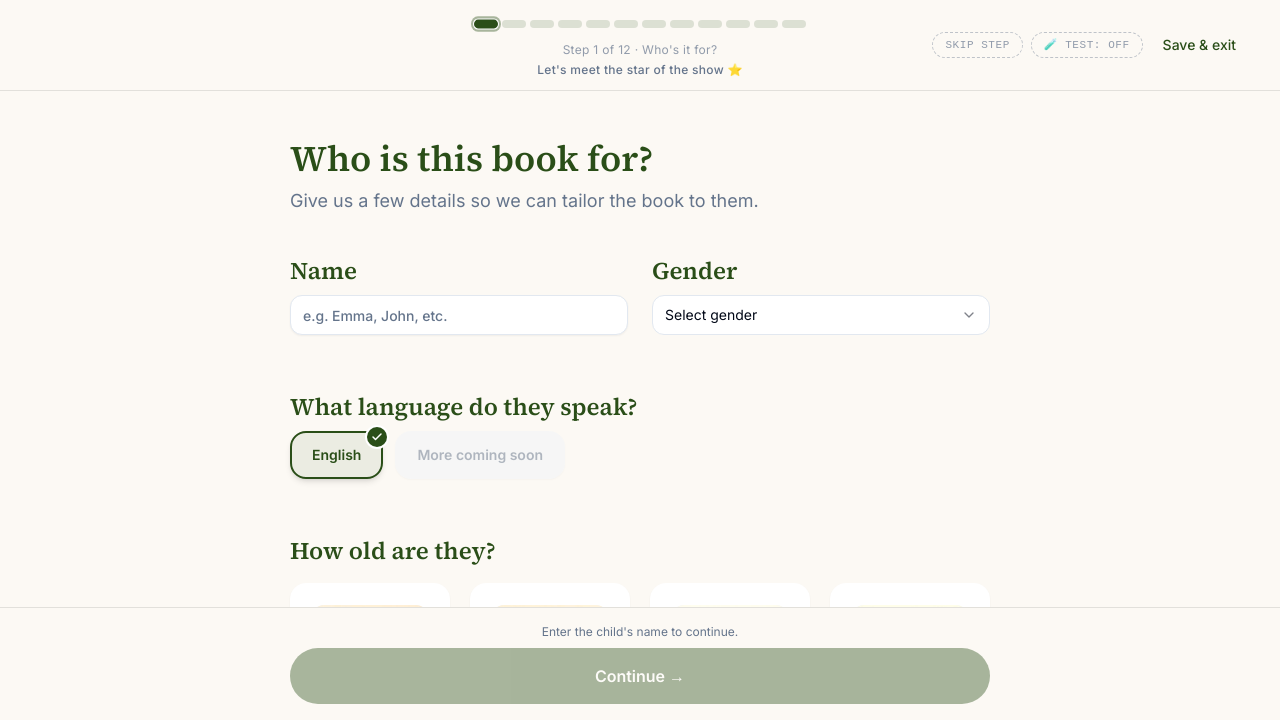
Step1Name — missingHint › advances hint to book format after name is entered
Type "Alex" into the field with placeholder "e.g. Emma, John, etc.". click: (459, 315)
box: [290,295,628,335]
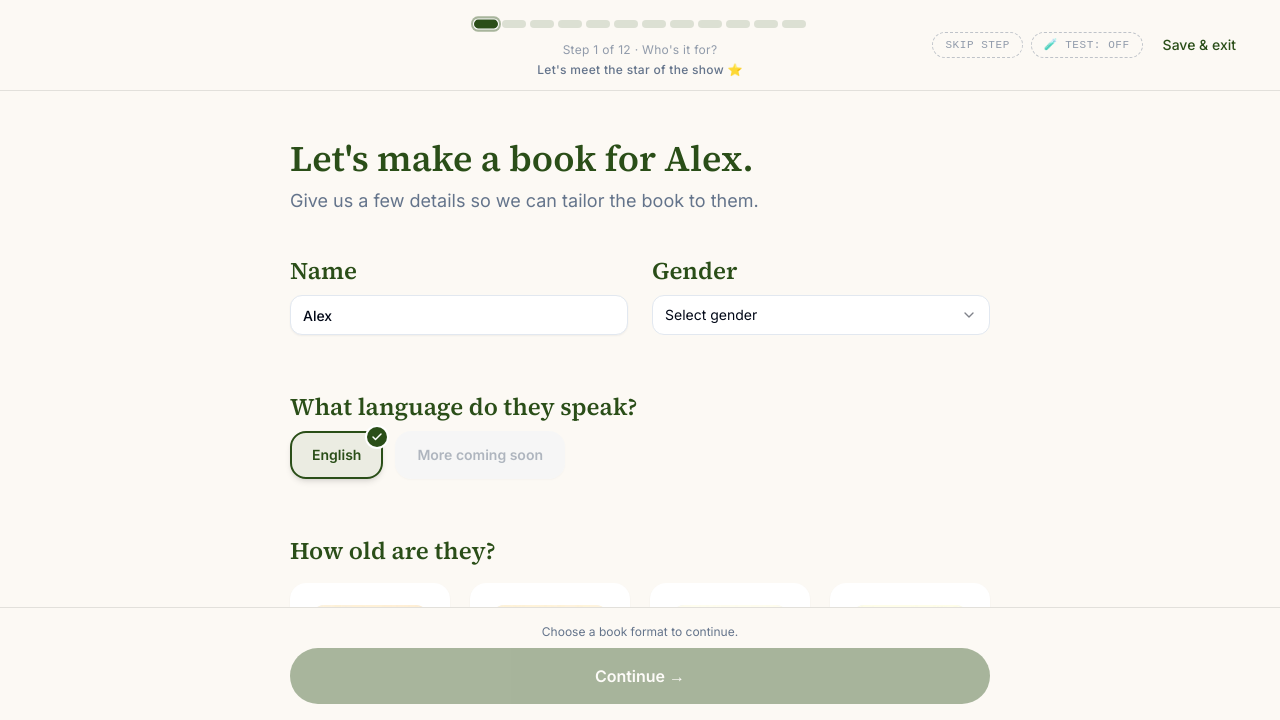
Expected: the text "Enter the child's name" is gone
Expected: the text "Choose a book format to continue." is shown, [542,624,738,640]
